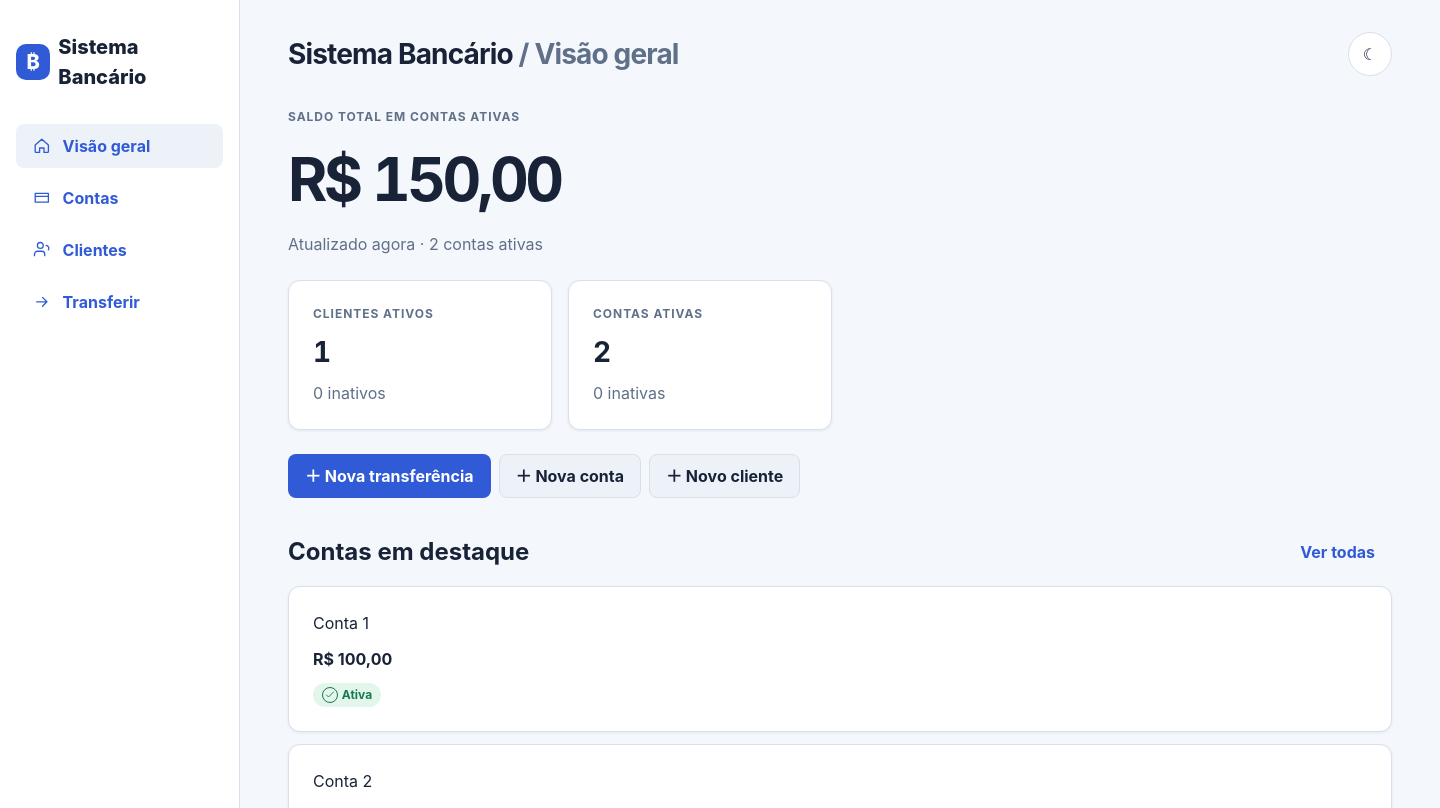
Test: Sistema Bancário › mostra a mensagem devolvida pela API ao falhar transferência
Click the button "Transferir": (120, 302) left=16, top=280, right=223, bottom=324
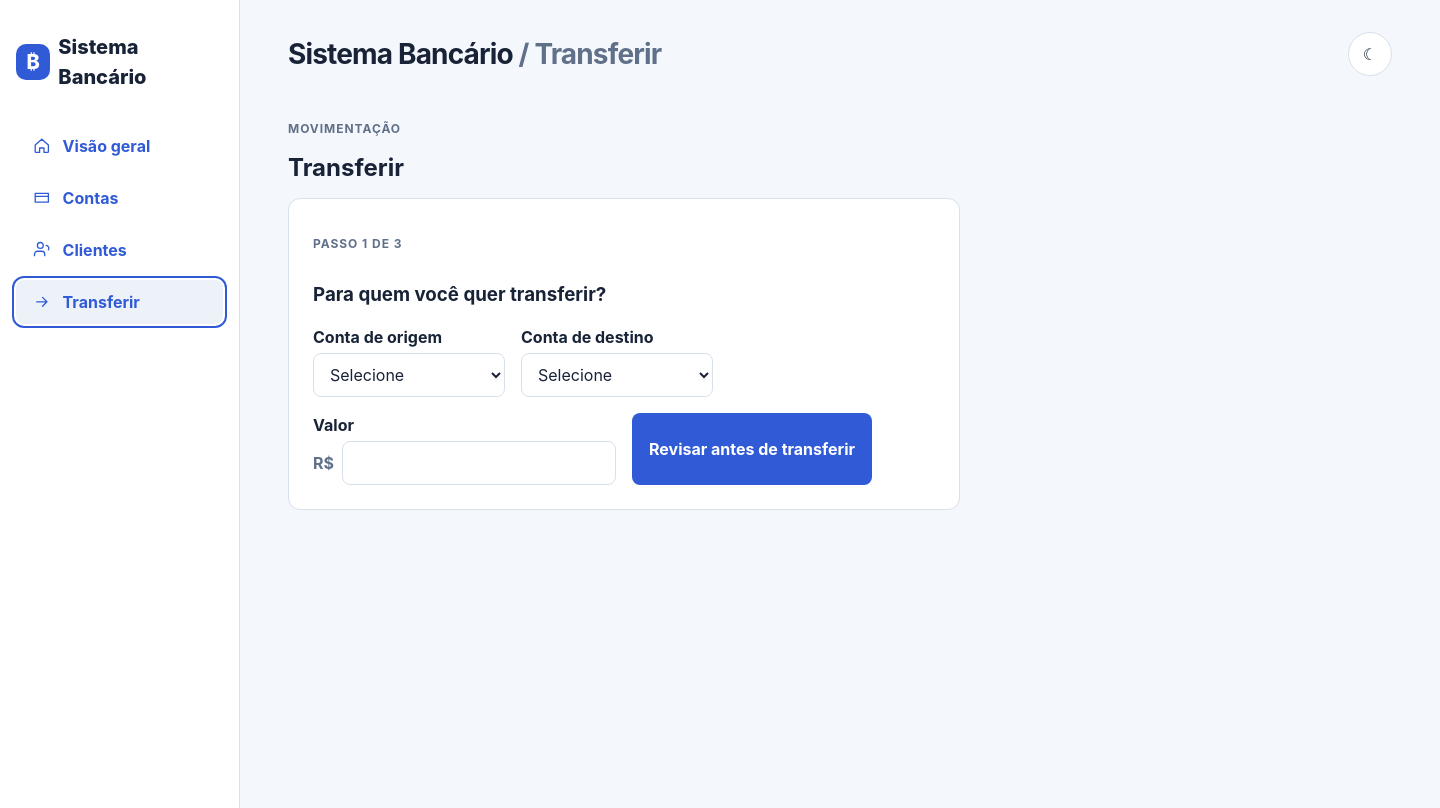
Select "Conta 1 · R$ 100,00" in the dropdown labelled "Conta de origem": (409, 375) left=313, top=353, right=505, bottom=397
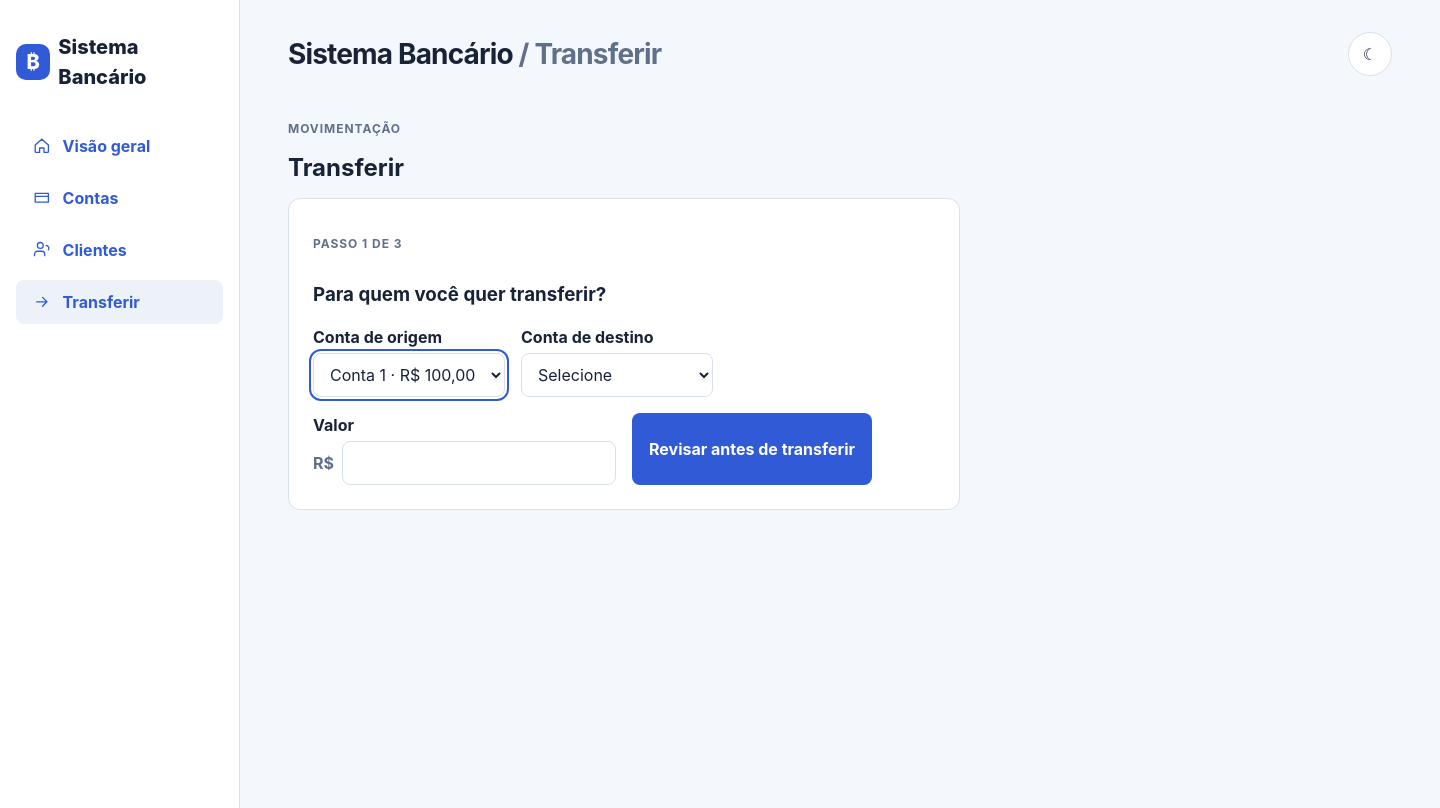
Select "Conta 2 · R$ 50,00" in the dropdown labelled "Conta de destino": (617, 375) left=521, top=353, right=713, bottom=397
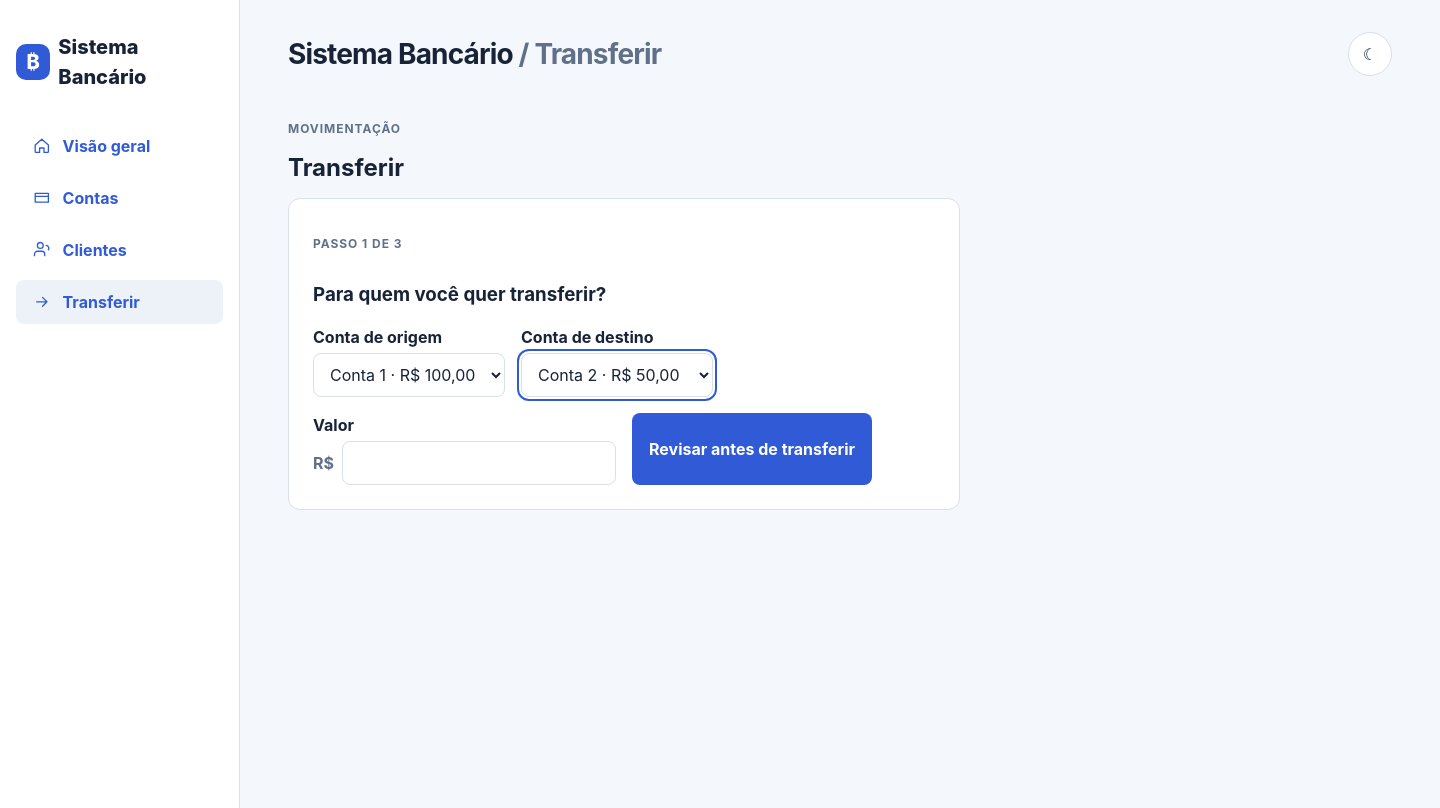
In the number field labelled "Valor": (479, 463) left=342, top=441, right=616, bottom=485, type "10"
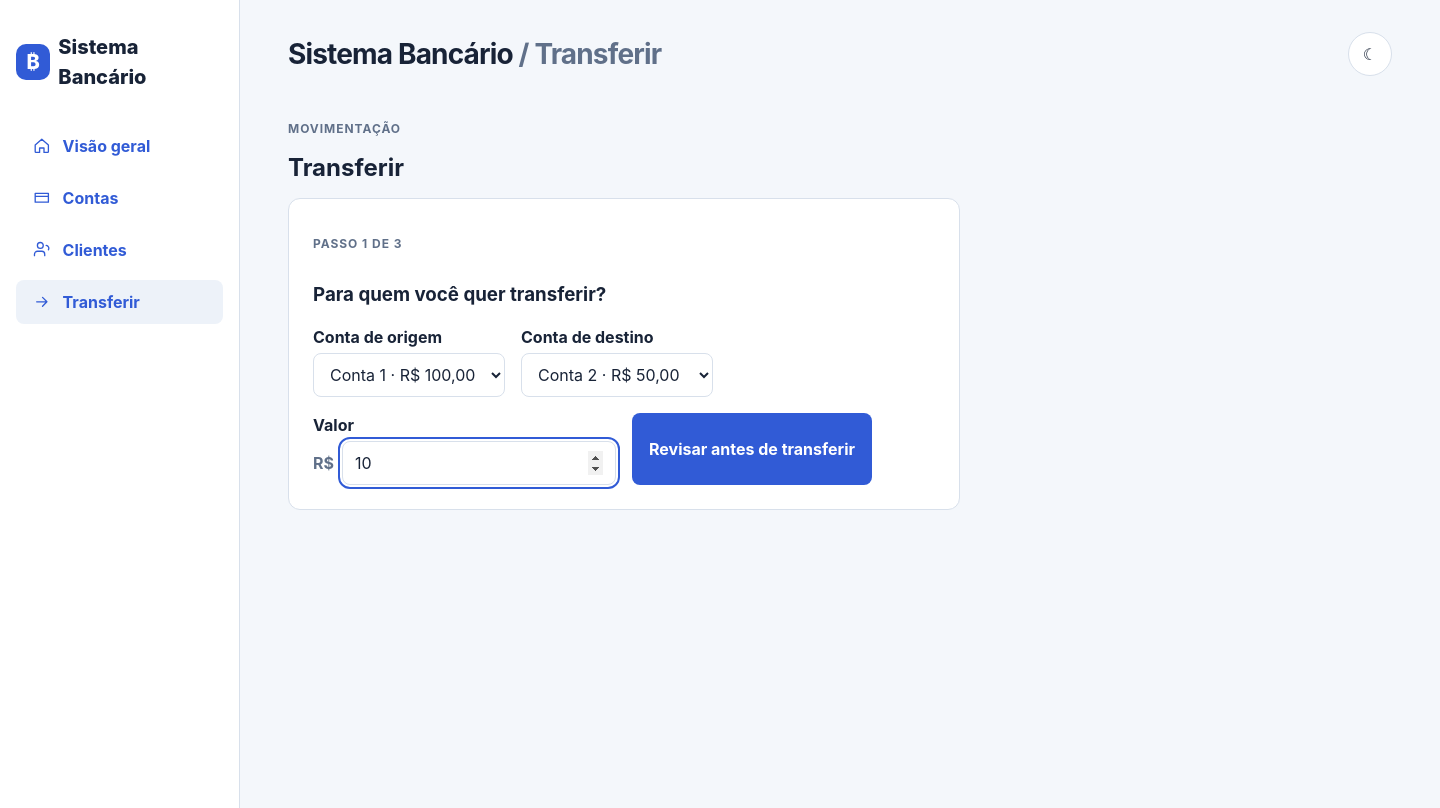
Click the button "Revisar antes de transferir": (752, 449) left=632, top=413, right=872, bottom=485
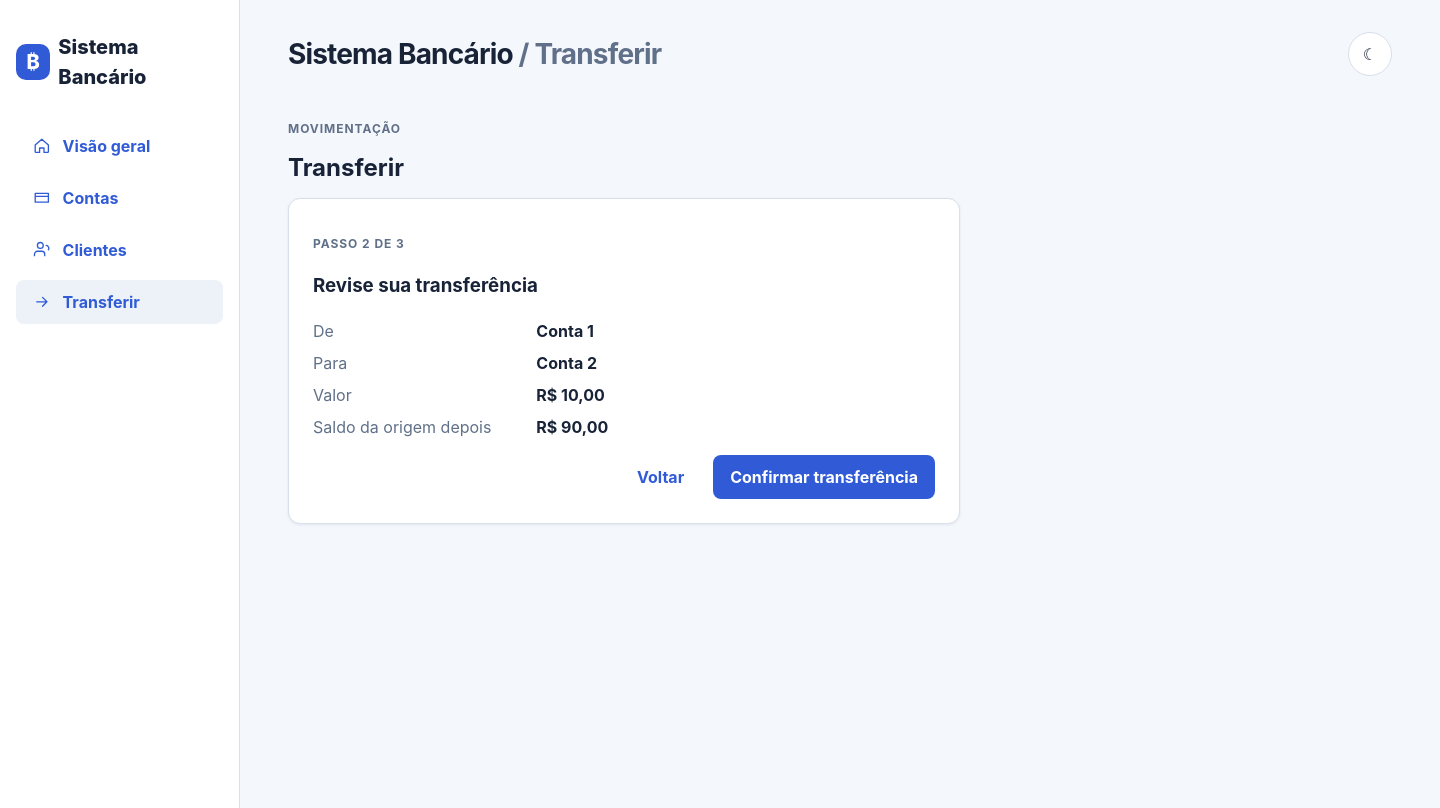
Click the button "Confirmar transferência": (824, 476) left=713, top=454, right=935, bottom=498
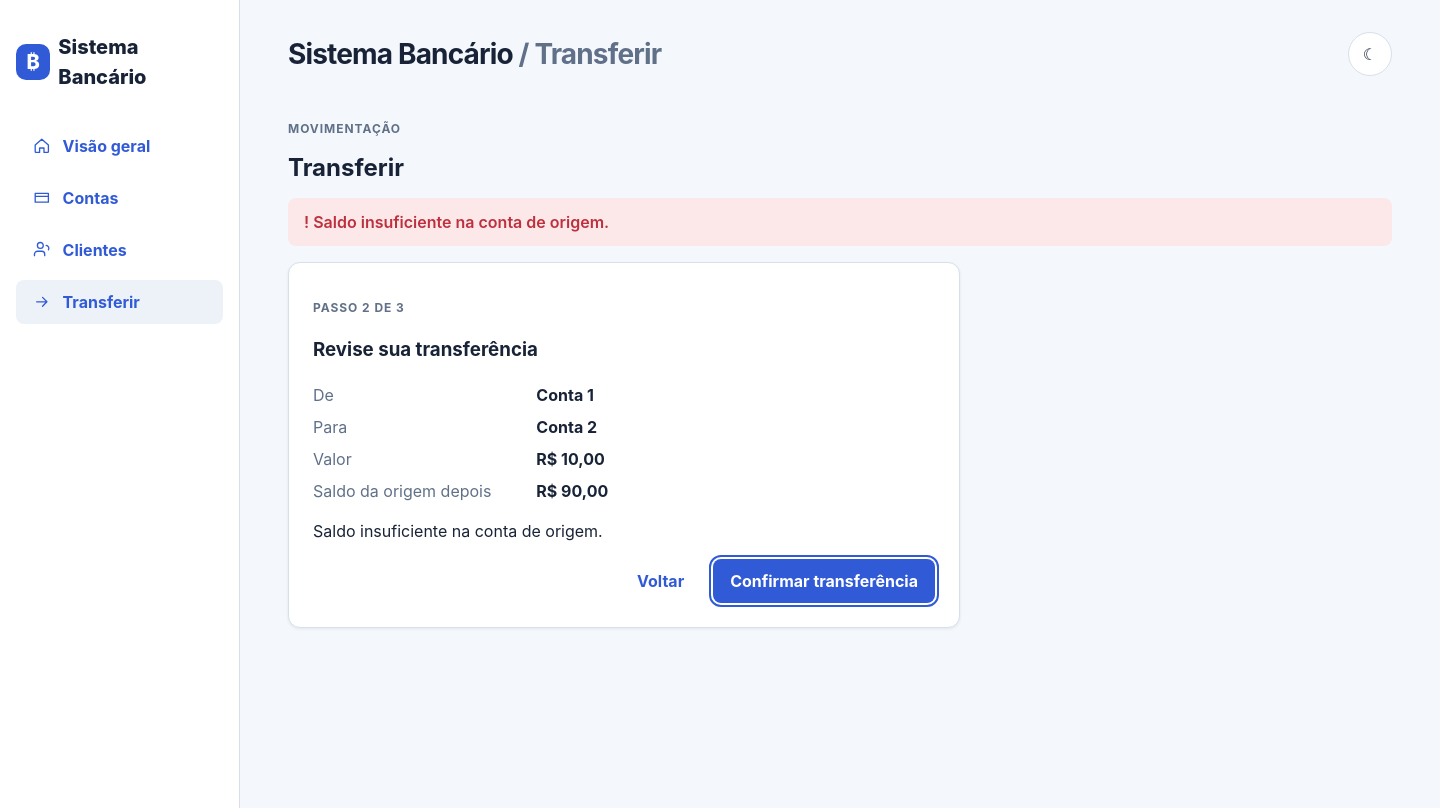
expect the message "! Saldo insuficiente na conta de origem." is shown: met, box left=288, top=198, right=1392, bottom=246
